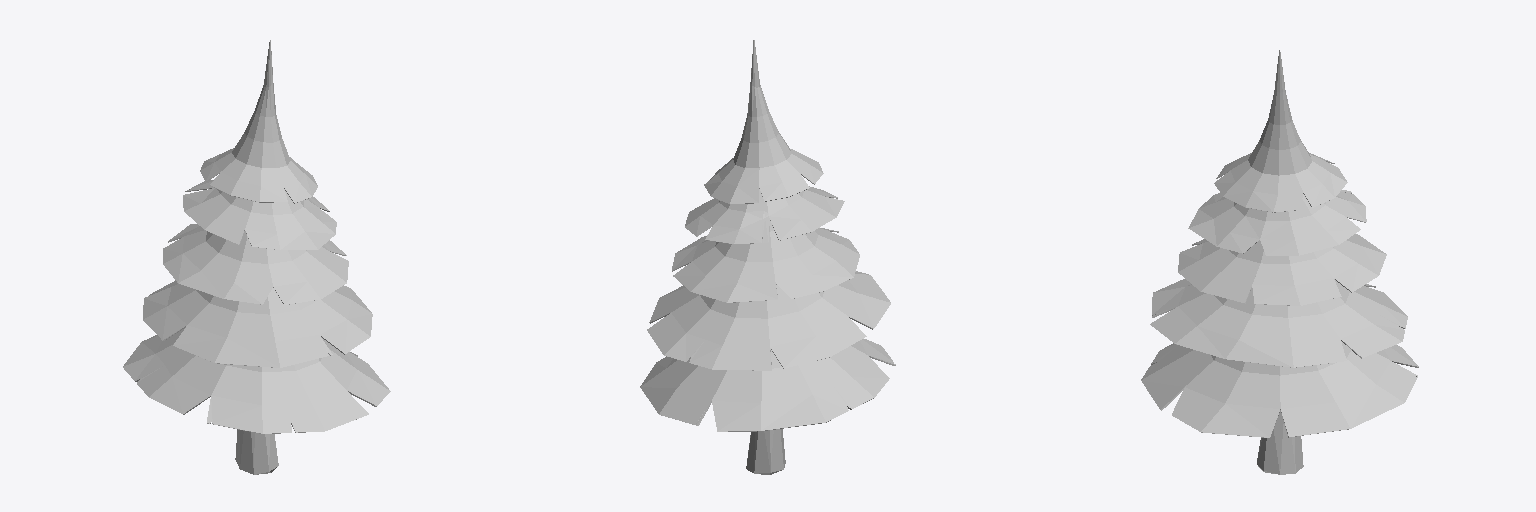
Rendered from arbol2.obj.
3 views of the same model, side by side, from view 1: azimuth 30°, elevation 25°; view 2: azimuth 150°, elevation 25°; view 3: azimuth 270°, elevation 25° (orthographic).
Visible parts, largest first — view 1: polySurface659; view 2: polySurface659; view 3: polySurface659.
Part boxes in pixels (x1,y1,x2,y2): polySurface659: (123, 40, 390, 474); polySurface659: (640, 40, 895, 474); polySurface659: (1141, 50, 1418, 474).
Size of the model in its own units: 2 by 3.79 by 2.25.